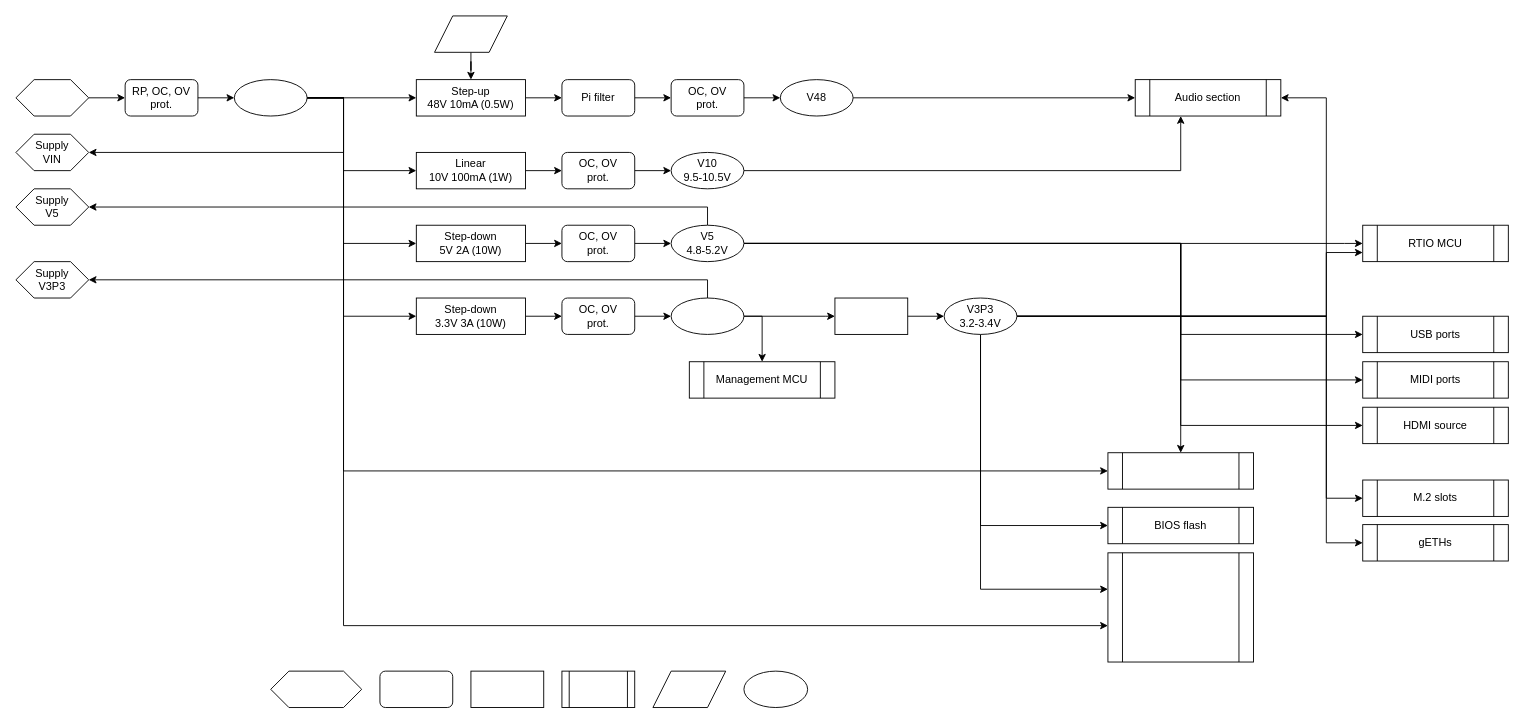
Image size: 1524x723. Some labels were removed from this diagram. The centre of each missing label's shape, as x and y in pixels:
Complex circuit: (598,689)
Connector / Interface: (316,689)
Enable switch: (470,33)
FANs: (1180,470)
Human Interface: (689,689)
LattePanda Mu: (1180,607)
Load Switch: (871,315)
Load VIN: (52,97)
Power Device: (507,689)
Power Net: (775,689)
simple circuit: (416,689)
V3P3STB 3.2-3.4V: (707,315)
VIN 12V: (270,97)
